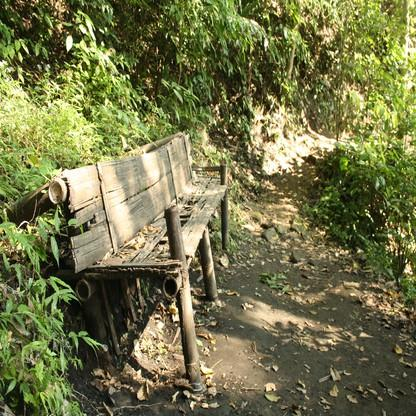obstacle: (41, 122, 244, 386)
